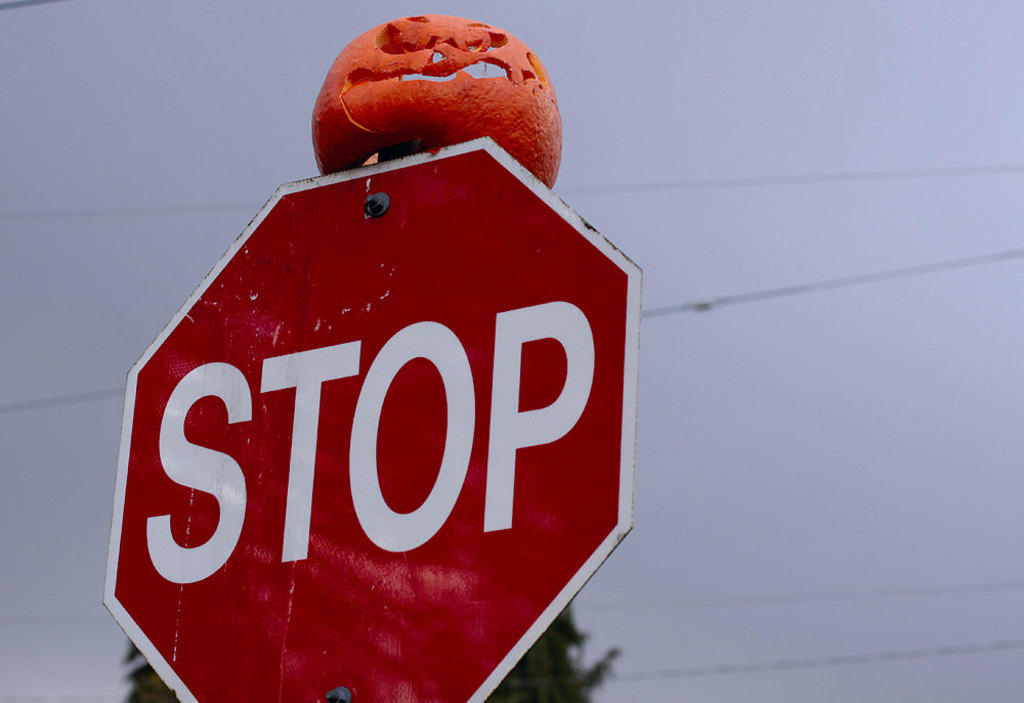stop_sign: (102, 142, 642, 703)
